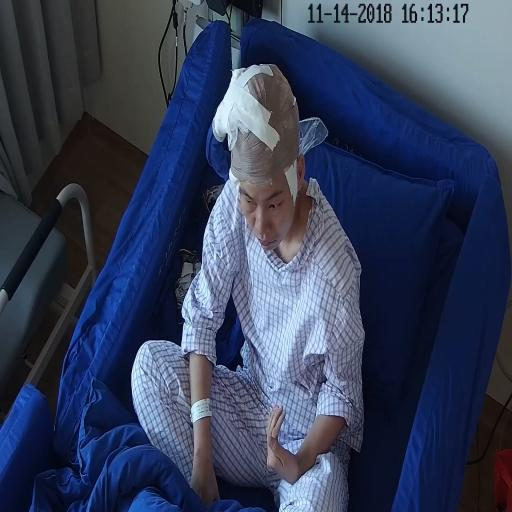Seizure: (231, 104, 297, 255)
